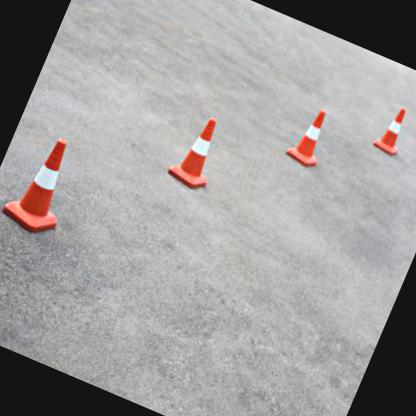cone: (0, 129, 88, 240), (164, 108, 230, 193), (282, 101, 337, 169), (370, 102, 414, 157)
